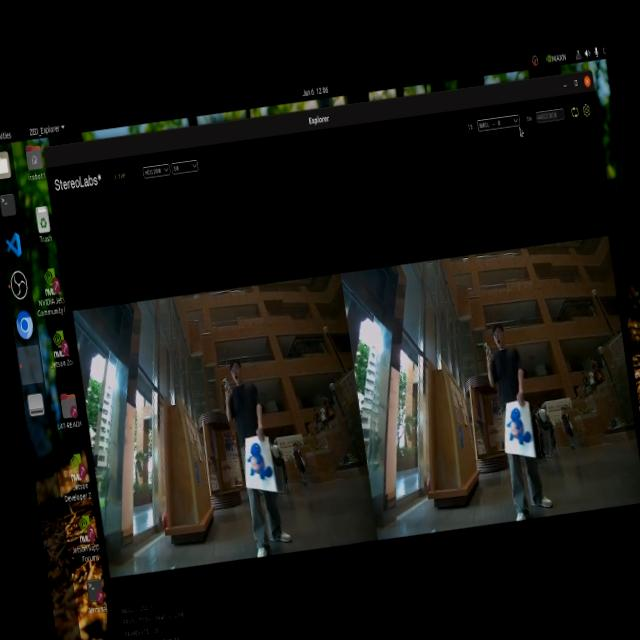blue: (228, 428, 282, 497), (502, 403, 532, 462)
